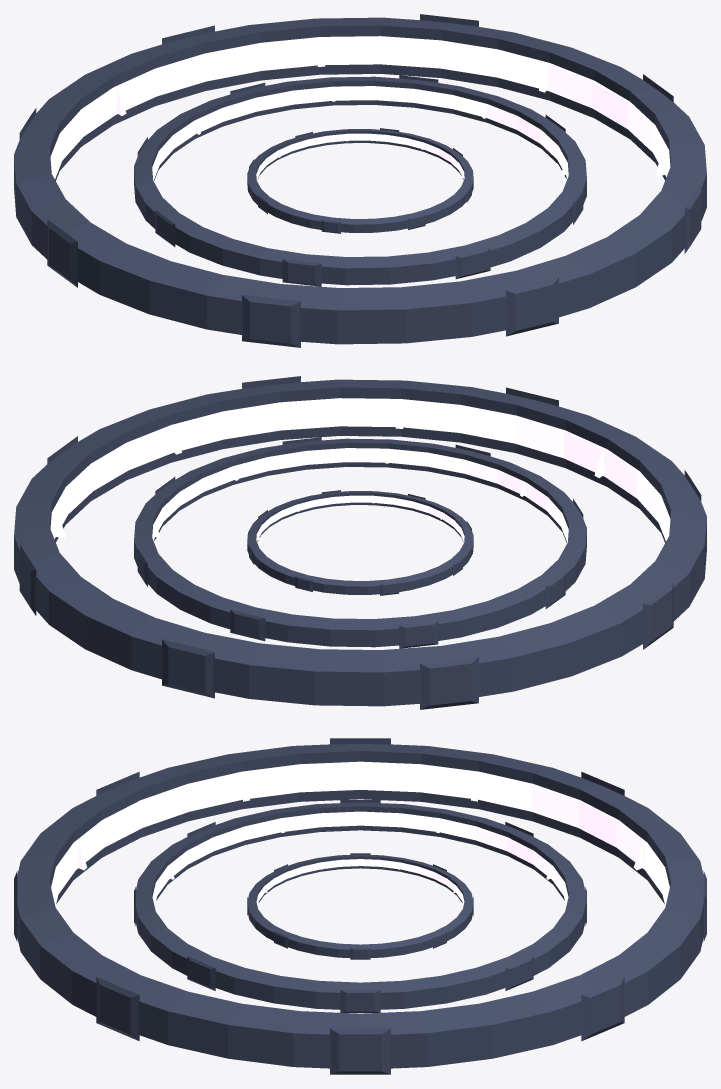
The model's file is Objectives_Cyber.fbx.
3 views of the same model, one above another, from view 1: azimuth 30°, elevation 25°; view 2: azimuth 150°, elevation 25°; view 3: azimuth 270°, elevation 25° (orthographic).
Visible parts, largest first — view 1: RingBig_LOD0, RingMid_LOD0, RingSmall_LOD0; view 2: RingBig_LOD0, RingMid_LOD0, RingSmall_LOD0; view 3: RingBig_LOD0, RingMid_LOD0, RingSmall_LOD0.
Boxes of the visible parts, <box> form: RingBig_LOD0: <box>14,14,706,347</box>; RingMid_LOD0: <box>134,75,586,286</box>; RingSmall_LOD0: <box>247,128,473,233</box>; RingBig_LOD0: <box>14,376,706,709</box>; RingMid_LOD0: <box>134,437,586,648</box>; RingSmall_LOD0: <box>247,490,473,595</box>; RingBig_LOD0: <box>14,738,706,1074</box>; RingMid_LOD0: <box>134,800,586,1012</box>; RingSmall_LOD0: <box>247,853,473,959</box>.
Size of what is drawn, in the model's own units: 13 by 1 by 13.
